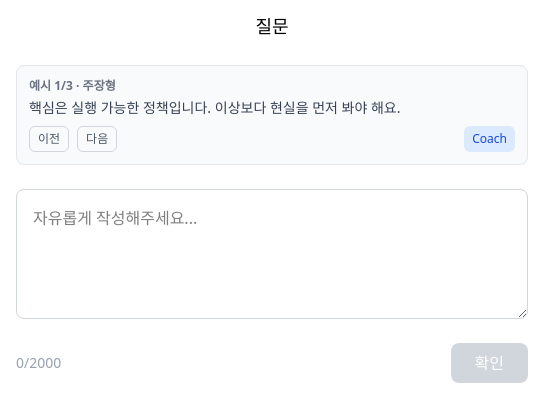
OpenEndedQuestion › swipes example cards with prev/next buttons
This screenshot has width=545, height=400.
Expected: the text "예시 1/3 · 주장형" is shown, [29,77,116,94]
Click the button with aria-label "다음 예시" at (97, 139), box [77,126,117,152]
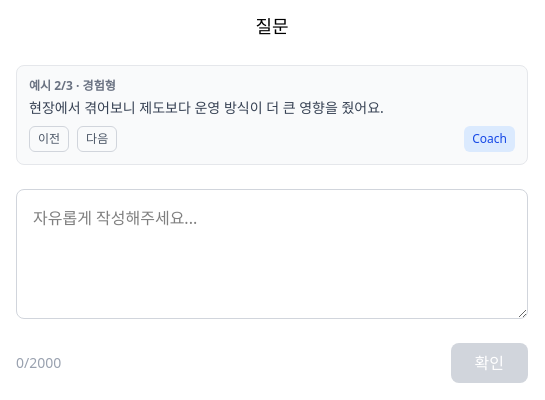
Expected: the text "예시 2/3 · 경험형" is shown, [29,77,116,94]
Click the button with aria-label "이전 예시" at (49, 139), box [29,126,69,152]
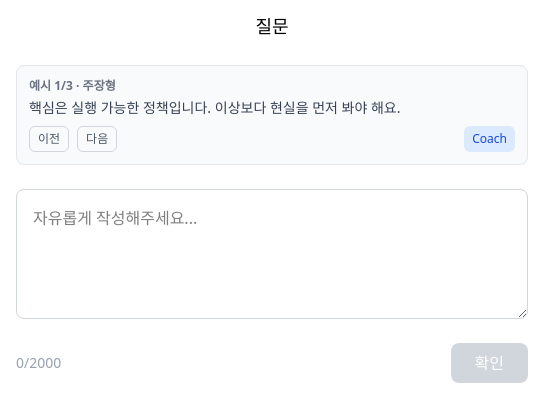
Expected: the text "예시 1/3 · 주장형" is shown, [29,77,116,94]
